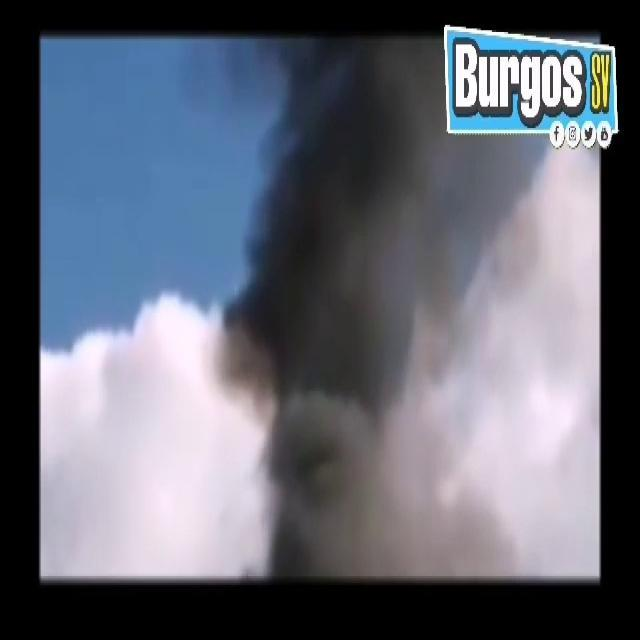Smoke: (218, 45, 490, 552)
